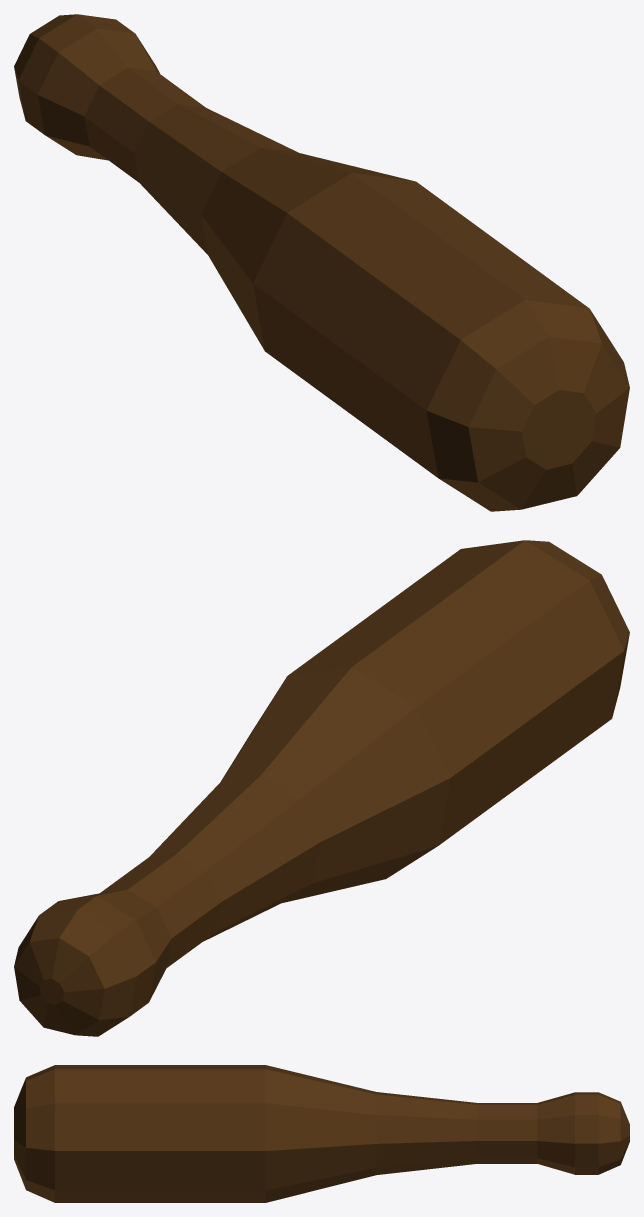
Rendered from F_Mace.fbx.
3 views of the same model, one above another, from view 1: azimuth 30°, elevation 25°; view 2: azimuth 150°, elevation 25°; view 3: azimuth 270°, elevation 25° (orthographic). The views are drawn at different scales.
Parts seen in each view (by area): view 1: F_Mace; view 2: F_Mace; view 3: F_Mace.
Part boxes in pixels (x1=…): F_Mace: x1=14, y1=14, x2=629, y2=511; F_Mace: x1=14, y1=540, x2=629, y2=1036; F_Mace: x1=14, y1=1065, x2=629, y2=1202.
Size of the model in its own units: 20.81 by 20.49 by 92.56.
